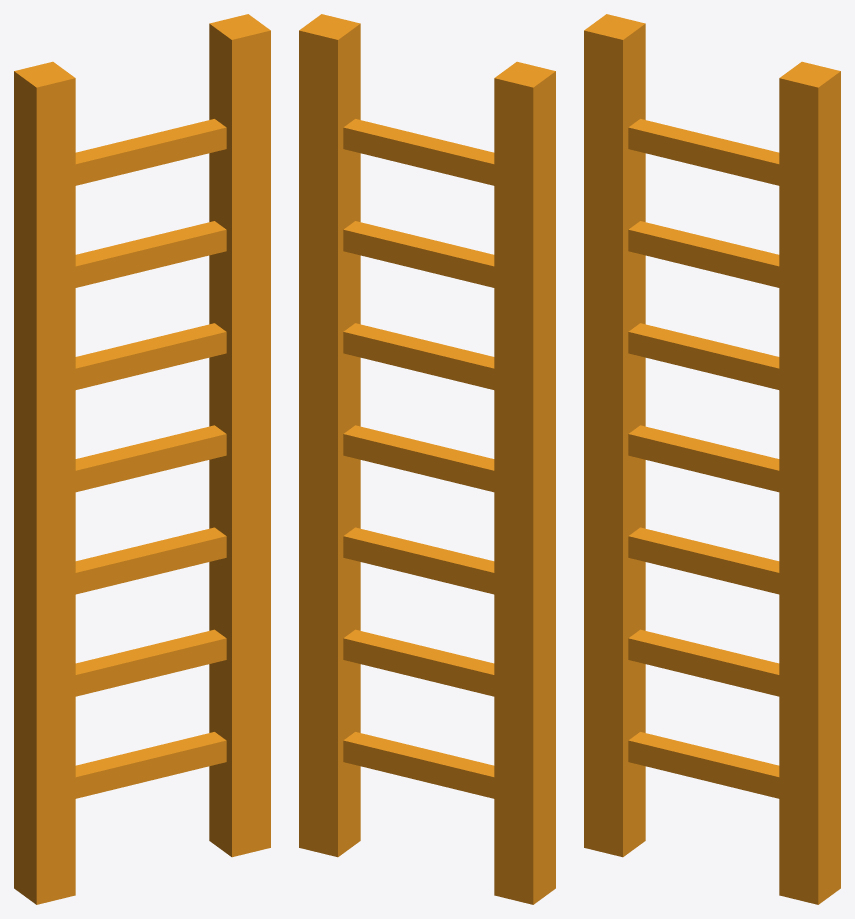
The model's file is SM_Prop_Ladder_1x2_01.fbx.
3 renders of one model, left to right at view 1: azimuth 30°, elevation 25°; view 2: azimuth 150°, elevation 25°; view 3: azimuth 330°, elevation 25°, orthographic.
Visible parts, largest first — view 1: SM_Prop_Ladder_1x2_01; view 2: SM_Prop_Ladder_1x2_01; view 3: SM_Prop_Ladder_1x2_01.
Part boxes in pixels (box(x1,y1,x2,y2)): SM_Prop_Ladder_1x2_01: box(14, 14, 270, 904); SM_Prop_Ladder_1x2_01: box(299, 14, 555, 904); SM_Prop_Ladder_1x2_01: box(584, 14, 840, 904).
Bounding box in the file's own units: 60 × 200 × 10.
